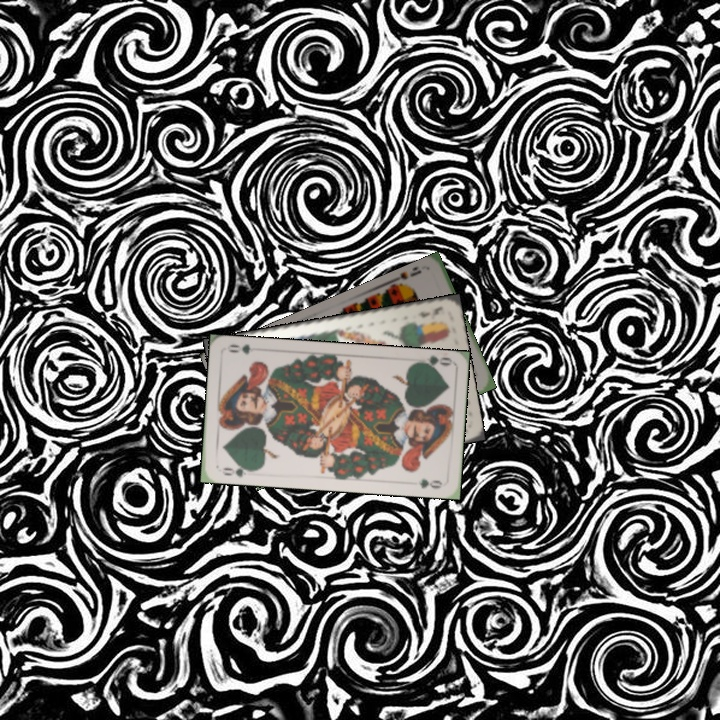EK: (414, 302, 445, 320)
GO: (412, 352, 453, 372), (218, 460, 256, 480)
S9: (390, 264, 424, 292)
